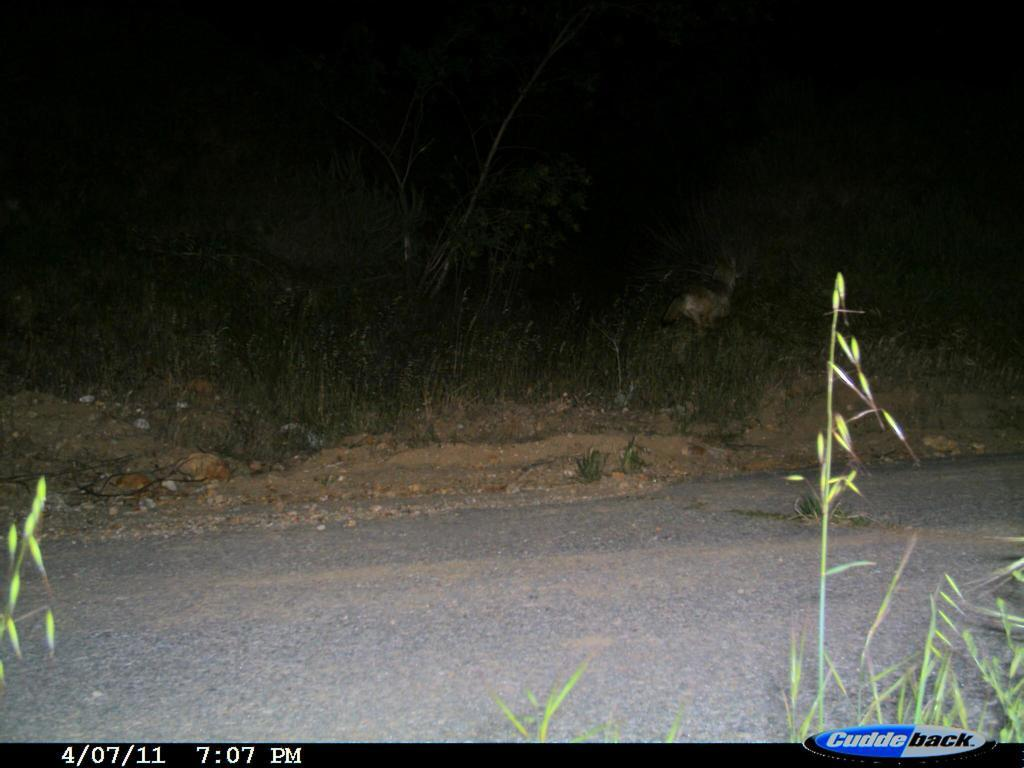coyote: (653, 251, 752, 342)
